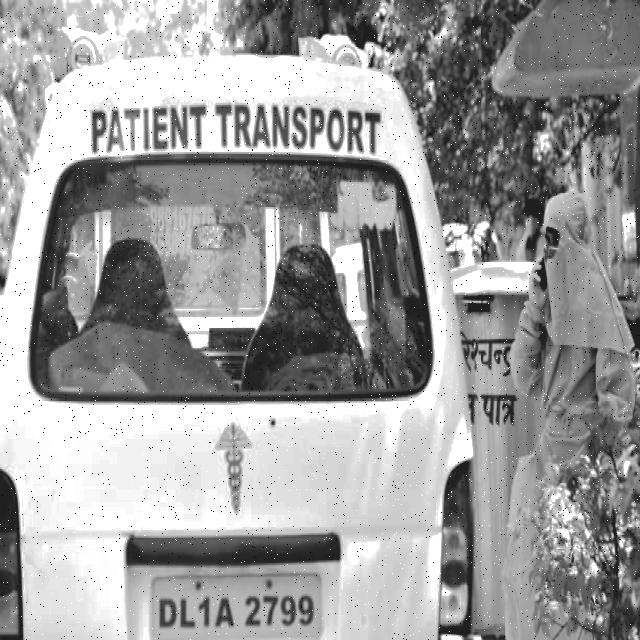Ambulance: (78, 83, 399, 196), (202, 411, 268, 532)
